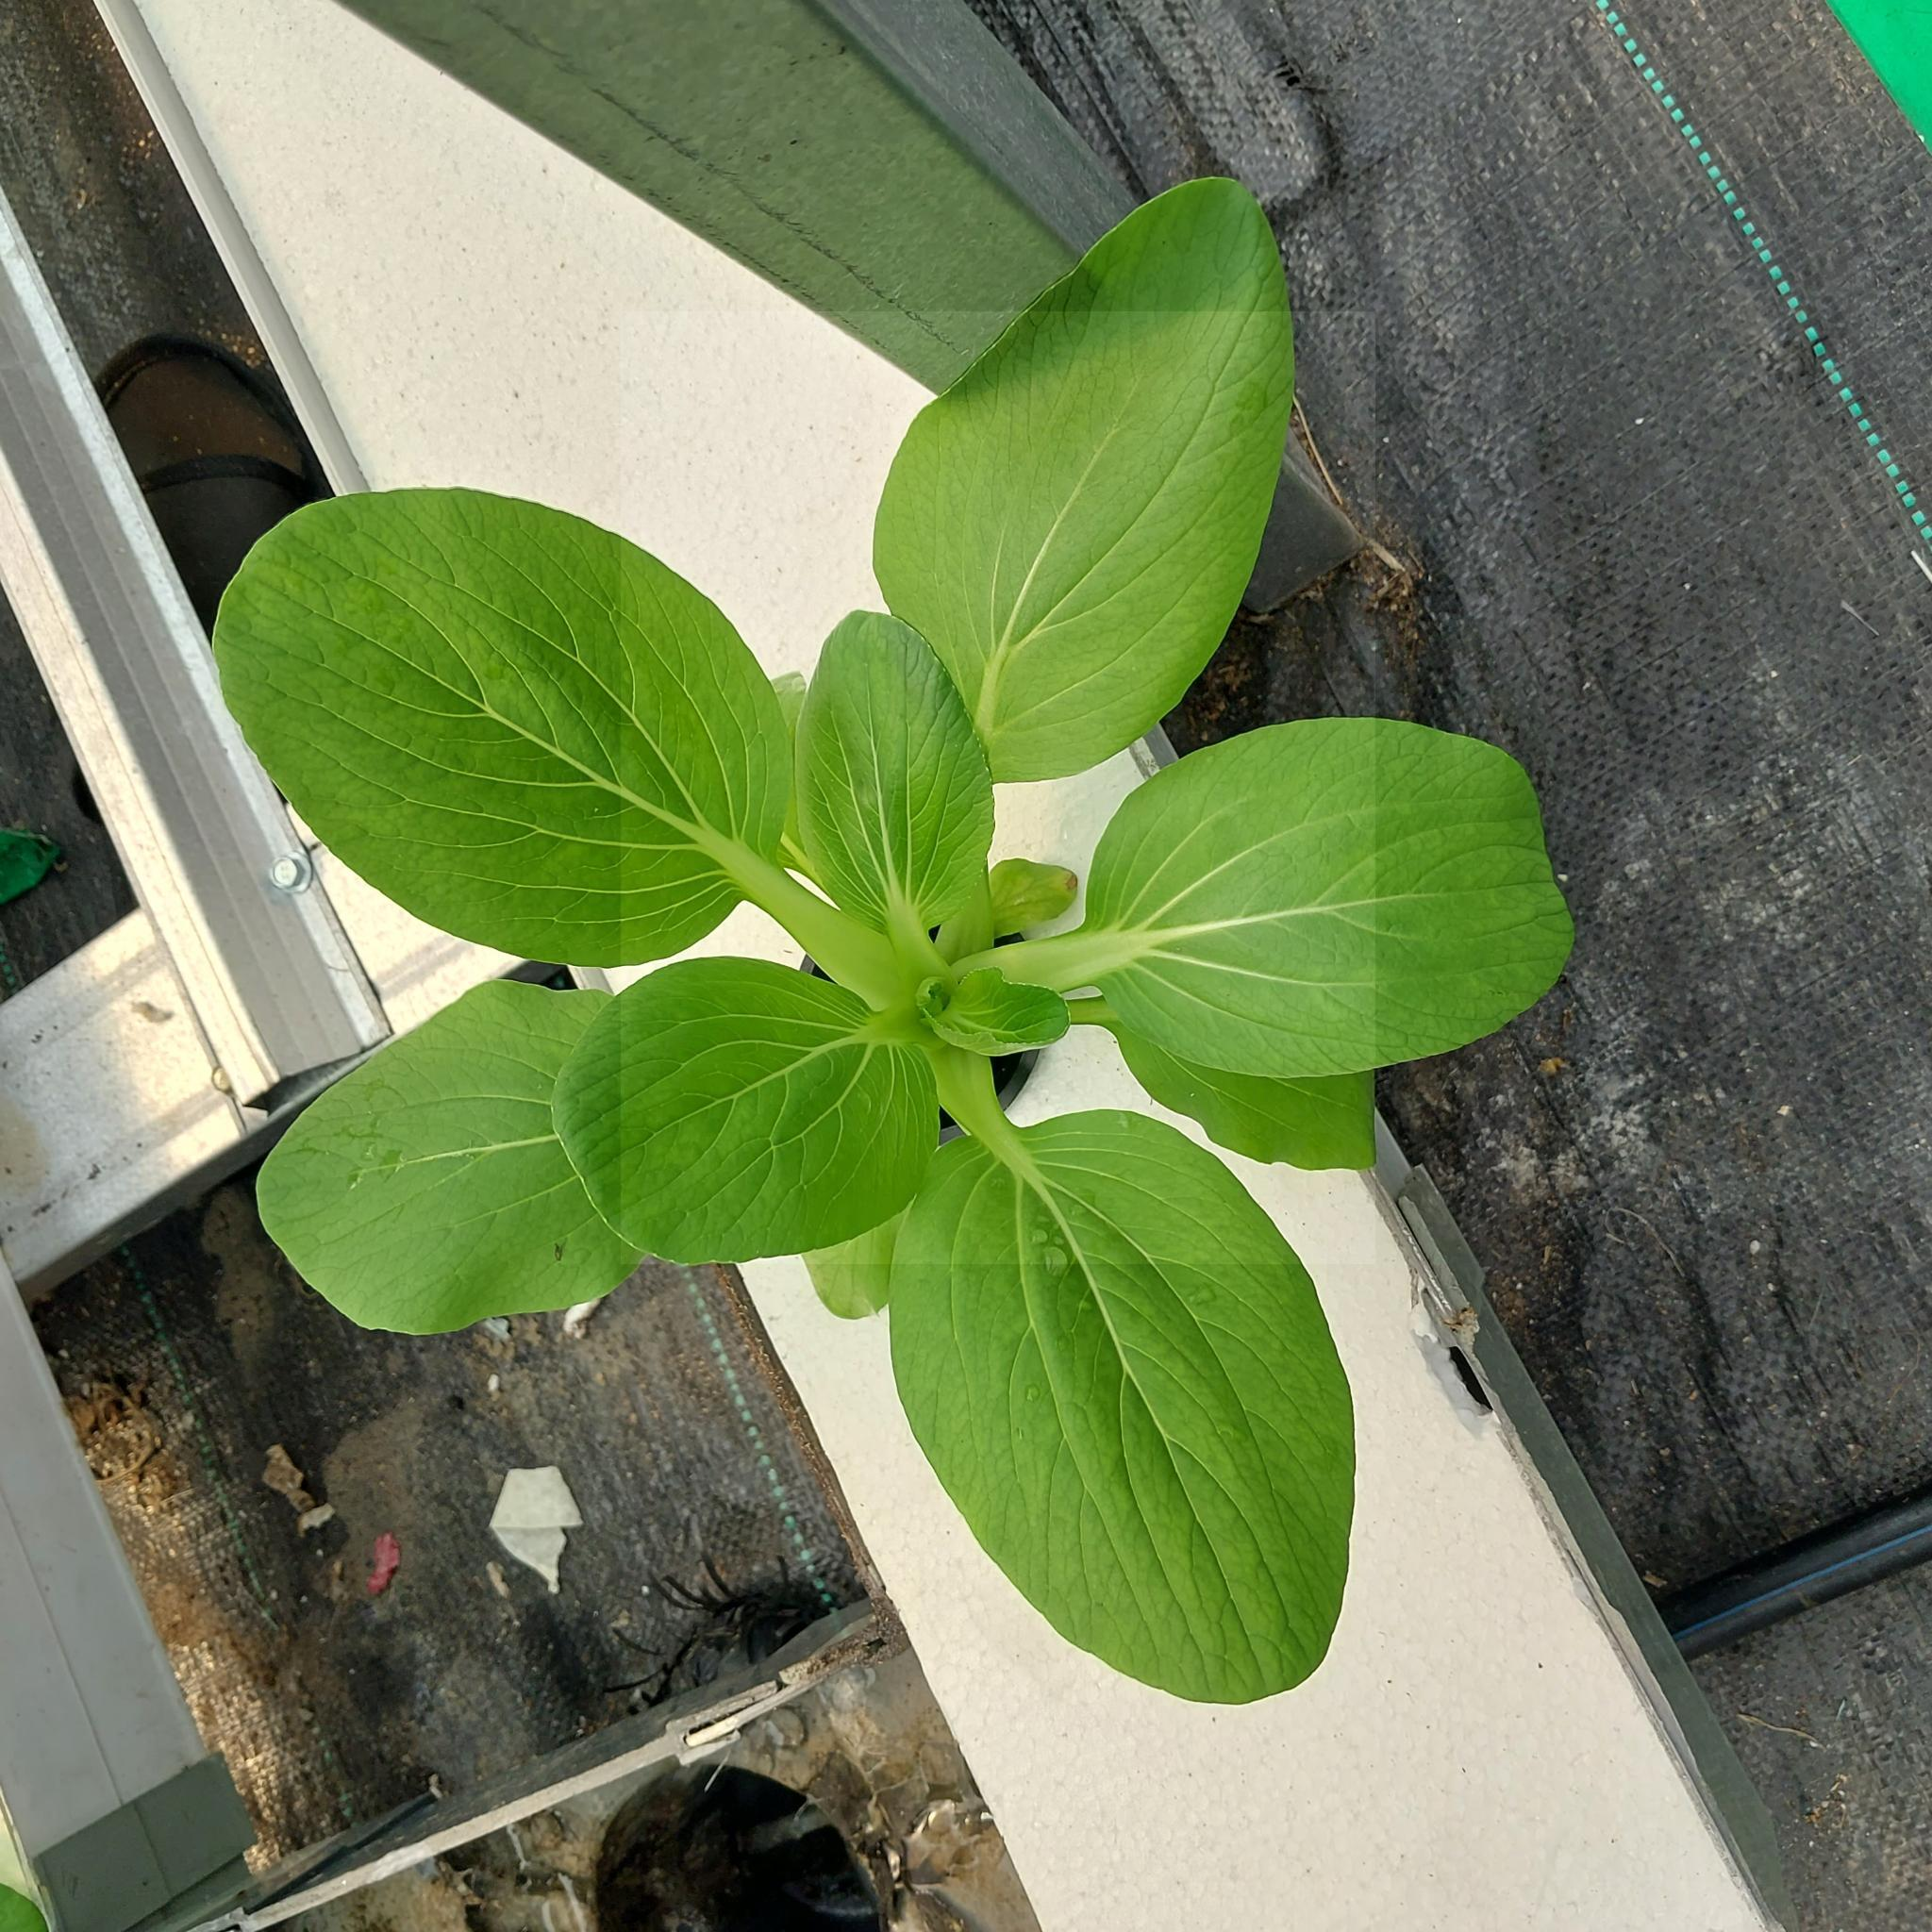Healthy-Pechay: (209, 487, 810, 957), (901, 1100, 1272, 1706), (904, 172, 1261, 782), (1060, 722, 1585, 1111), (249, 989, 639, 1334), (557, 961, 947, 1267), (1031, 874, 1440, 1028), (1102, 1014, 1376, 1173)
